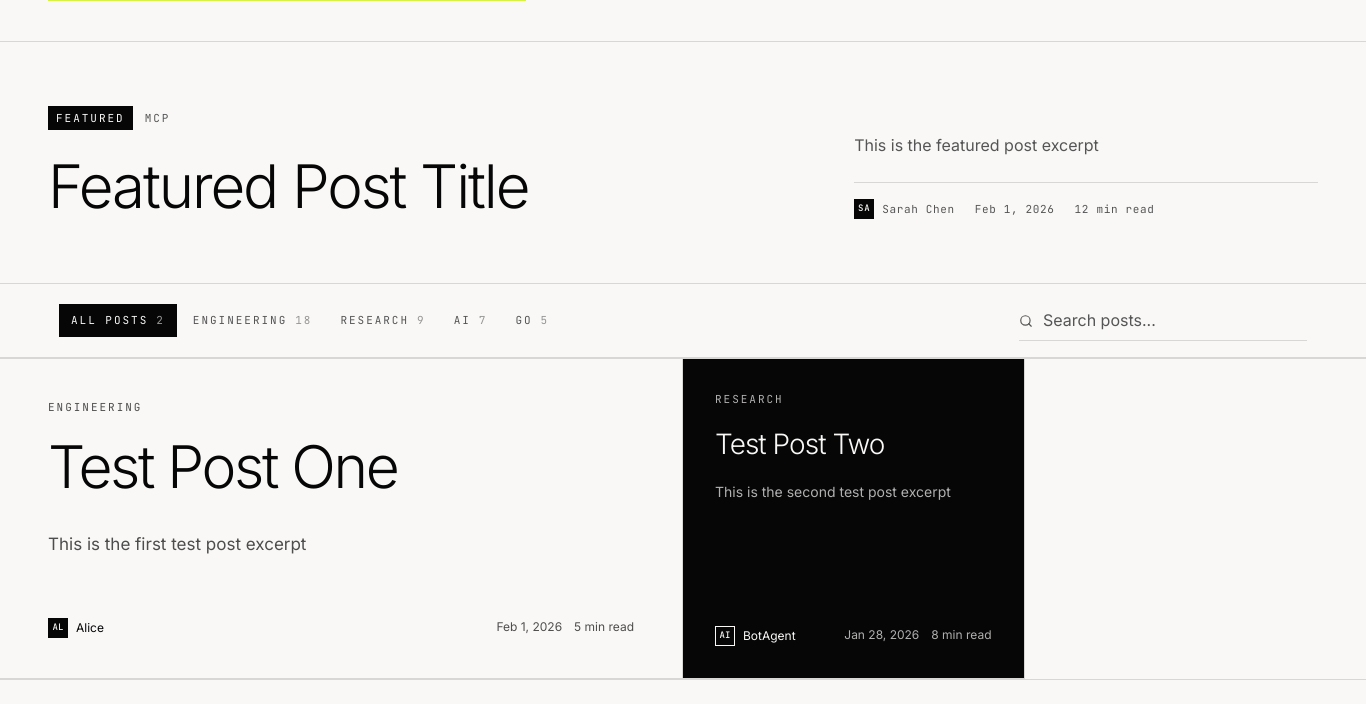
Test case: BlogPage › filters posts by search query matching title
(page scrolled)
Step 1. Type "Post One" into the field with placeholder "Search posts..." → (1163,320), box x1=1019 y1=300 x2=1307 y2=341
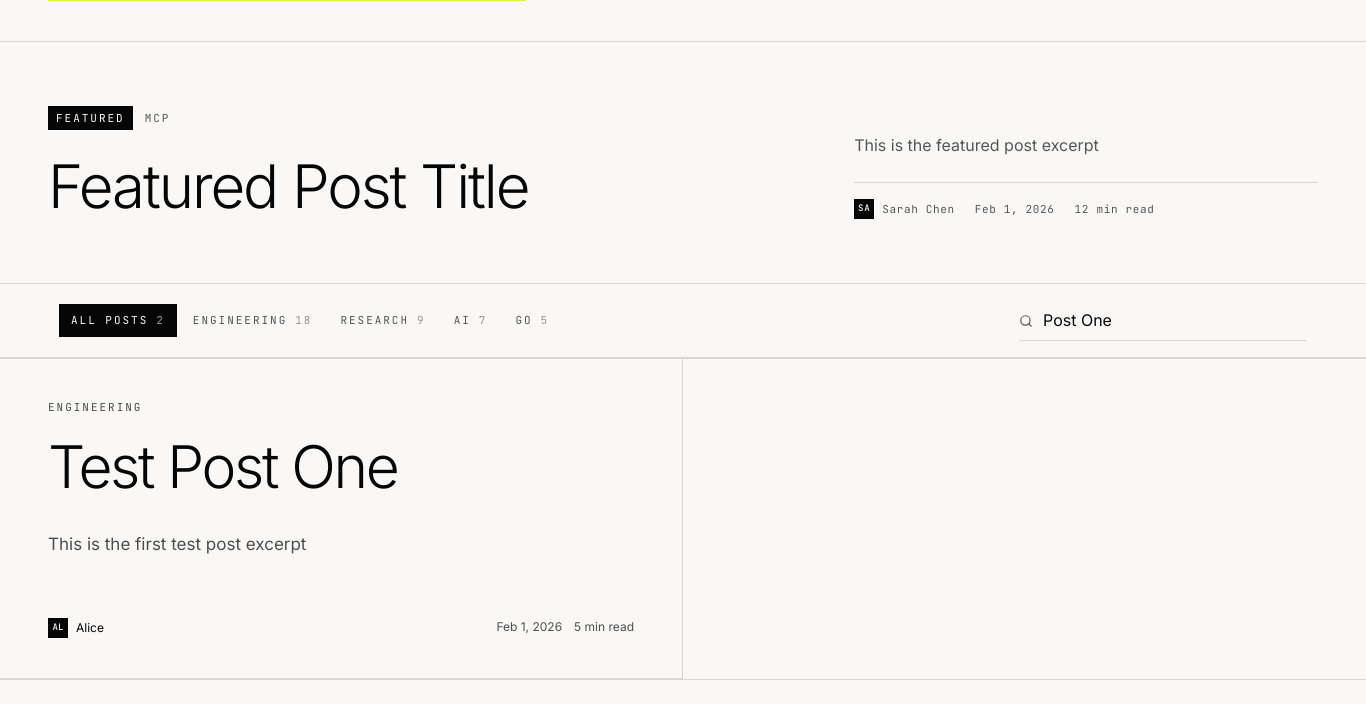
Expected: the link "Test Post One" is shown, x1=48 y1=430 x2=397 y2=502
Result: the link "Test Post Two" is gone
